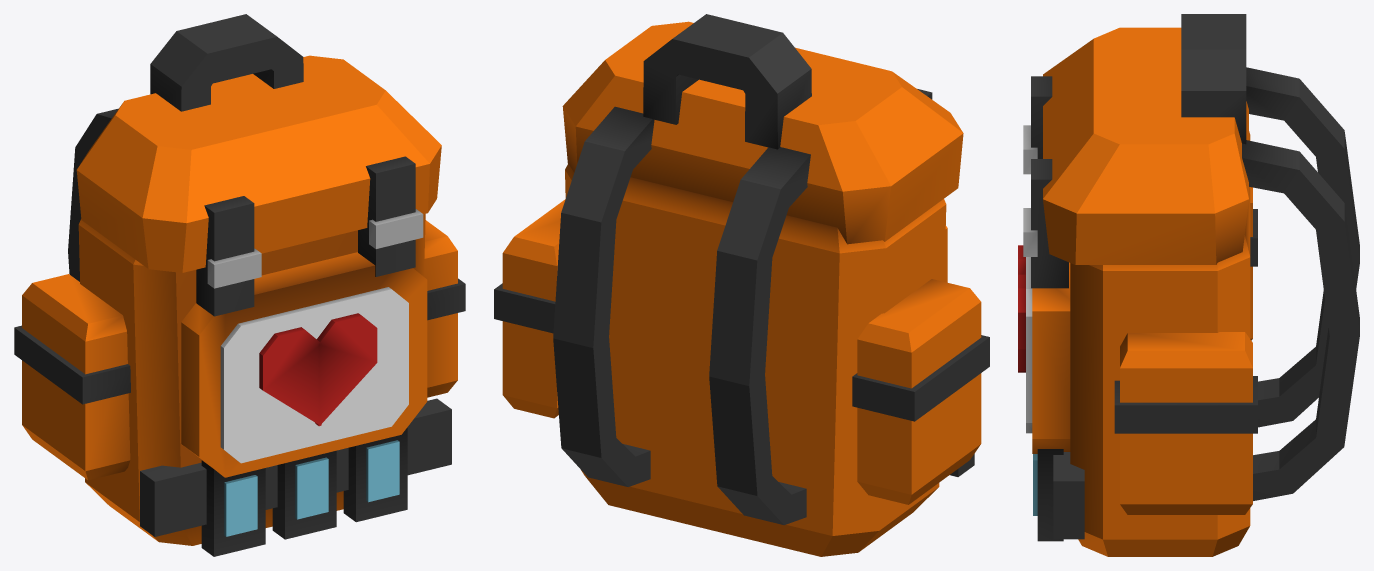
File: power-refill.glb
The picture shows the model from 3 angles, left to right: view 1: azimuth 30°, elevation 25°; view 2: azimuth 150°, elevation 25°; view 3: azimuth 270°, elevation 25°; orthographic projection. The views are drawn at different scales.
Visible parts, largest first — view 1: full-refill; view 2: full-refill; view 3: full-refill.
Boxes of the visible parts, x1,y1,x2,y2 form: full-refill: (14,14,465,556); full-refill: (494,14,989,556); full-refill: (1018,14,1359,556).
Size of the model in its own units: 0.356 by 0.3928 by 0.262.
1 material, 1 textured.
